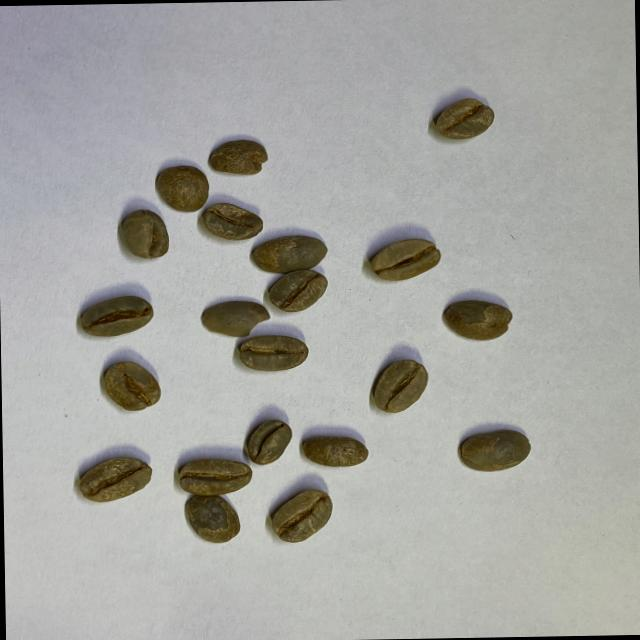bad: (198, 298, 271, 339), (206, 138, 272, 178), (242, 416, 294, 466), (120, 208, 170, 260)
good: (270, 486, 332, 546), (78, 454, 152, 504), (76, 294, 156, 339), (370, 356, 431, 414), (367, 235, 442, 282), (458, 427, 530, 474), (100, 361, 162, 412), (176, 455, 252, 496), (433, 94, 496, 142), (443, 298, 513, 341), (183, 494, 240, 546), (252, 235, 330, 273), (154, 163, 210, 214), (240, 332, 308, 373), (270, 268, 328, 314), (202, 200, 266, 240), (302, 432, 369, 468)
